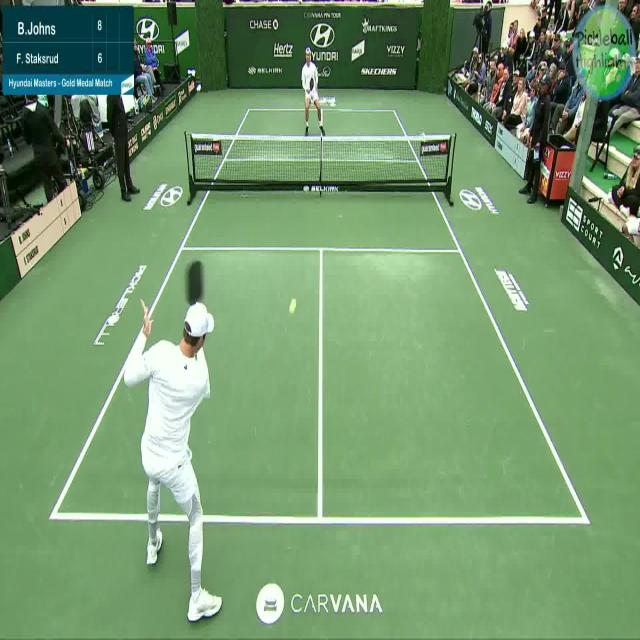ball: (286, 292, 302, 318)
